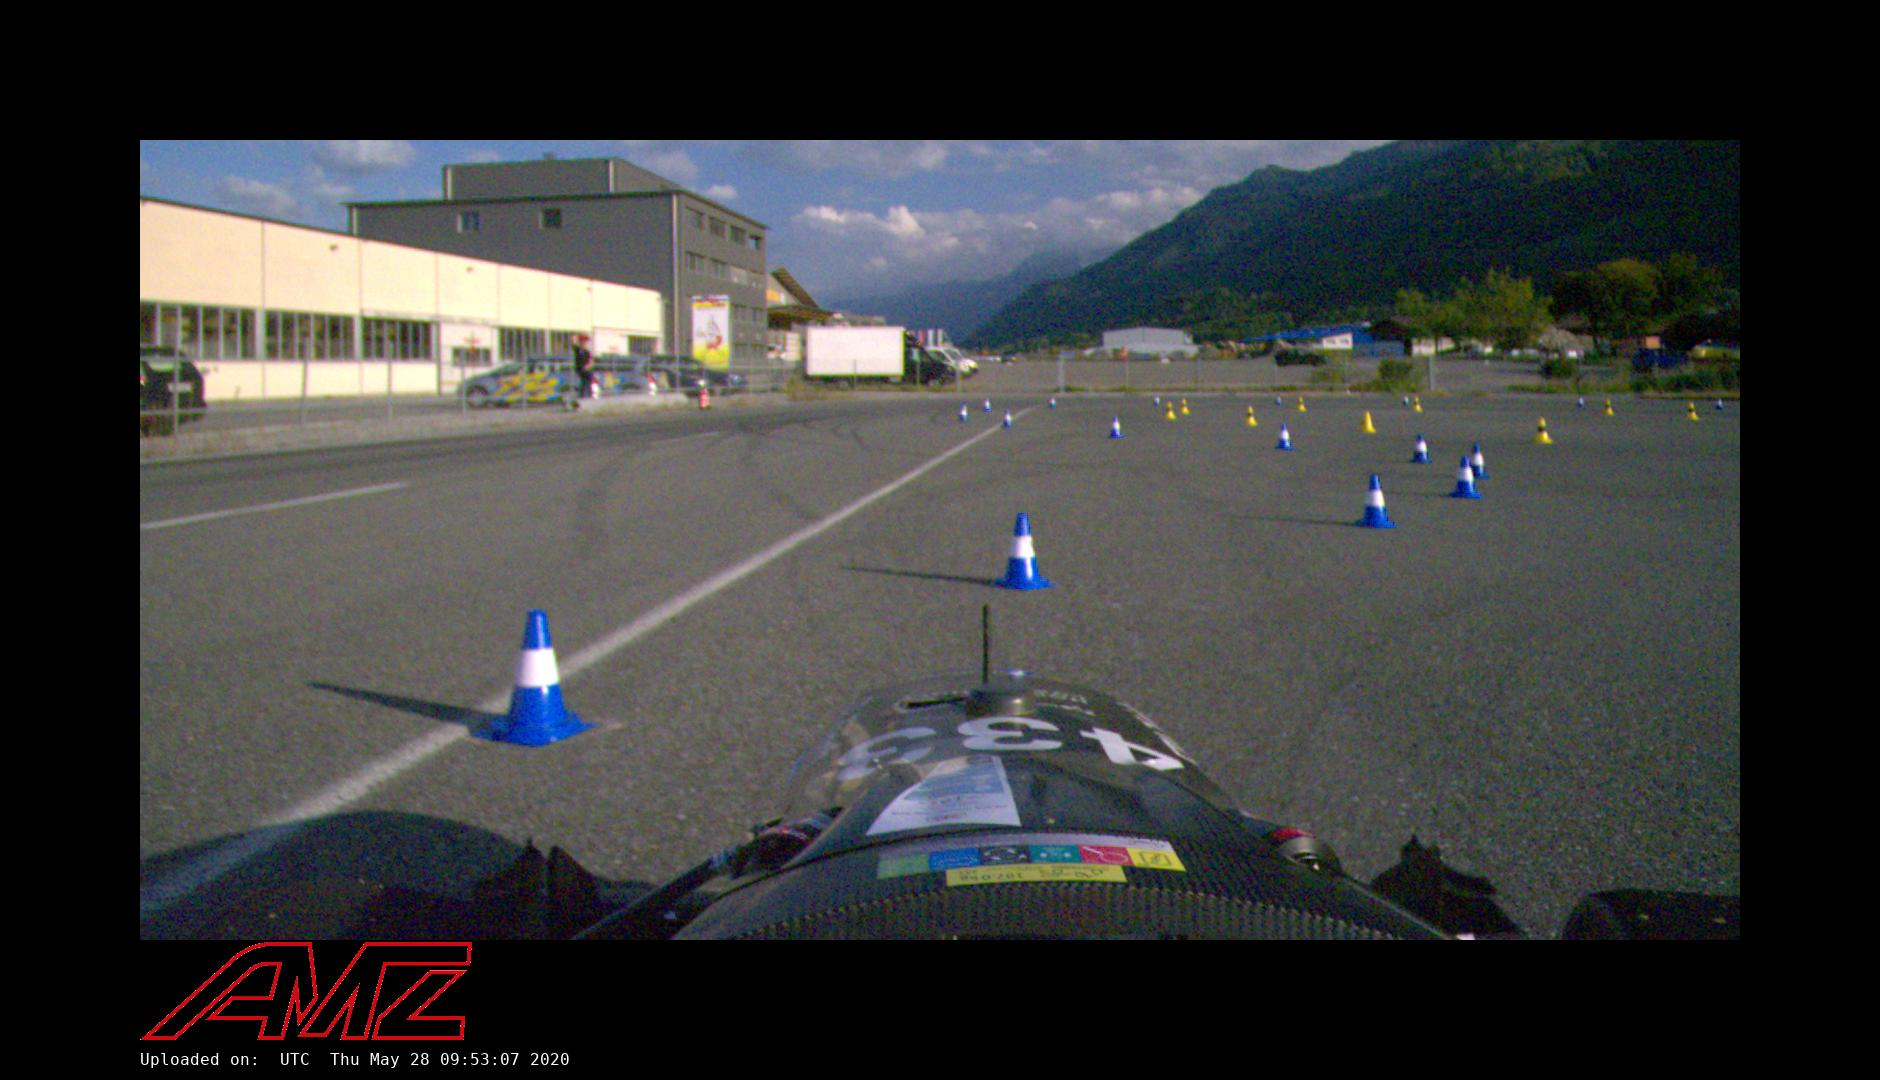blue_cone: (469, 611, 600, 749), (990, 513, 1056, 590), (1352, 474, 1398, 528), (1449, 456, 1484, 499), (1469, 444, 1490, 481), (1409, 434, 1432, 464), (1274, 424, 1295, 450), (1109, 415, 1125, 438), (1002, 410, 1014, 428), (959, 402, 968, 421), (983, 397, 992, 412), (1577, 395, 1586, 410), (1402, 394, 1411, 406), (1050, 397, 1057, 408), (1274, 395, 1282, 406), (1716, 399, 1722, 410), (1156, 395, 1160, 406)
yellow_cone: (1530, 419, 1553, 444), (1358, 412, 1376, 433), (1243, 406, 1258, 426), (1601, 399, 1615, 417), (1685, 402, 1699, 420), (1165, 402, 1176, 419), (1413, 397, 1423, 412), (1180, 399, 1190, 413), (1296, 397, 1305, 412)
